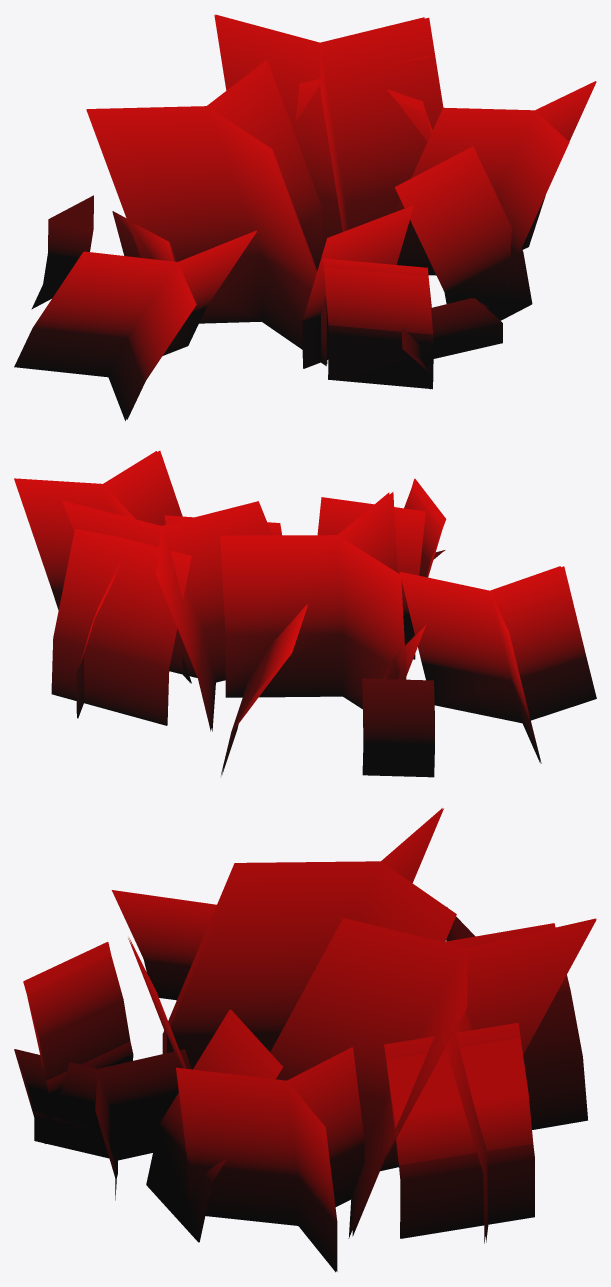
File: SM_GrassField_02_b.FBX
The picture shows the model from 3 angles, top to bottom: view 1: azimuth 30°, elevation 25°; view 2: azimuth 150°, elevation 25°; view 3: azimuth 270°, elevation 25°; orthographic projection. The views are drawn at different scales.
Parts seen in each view (by area): view 1: SM_GrassField_02_b_LOD0; view 2: SM_GrassField_02_b_LOD0; view 3: SM_GrassField_02_b_LOD0.
Part boxes in pixels (x1=…): SM_GrassField_02_b_LOD0: x1=14, y1=14, x2=596, y2=420; SM_GrassField_02_b_LOD0: x1=14, y1=450, x2=596, y2=777; SM_GrassField_02_b_LOD0: x1=14, y1=808, x2=596, y2=1272.
Size of the model in its own units: 181 by 136 by 61.37.
